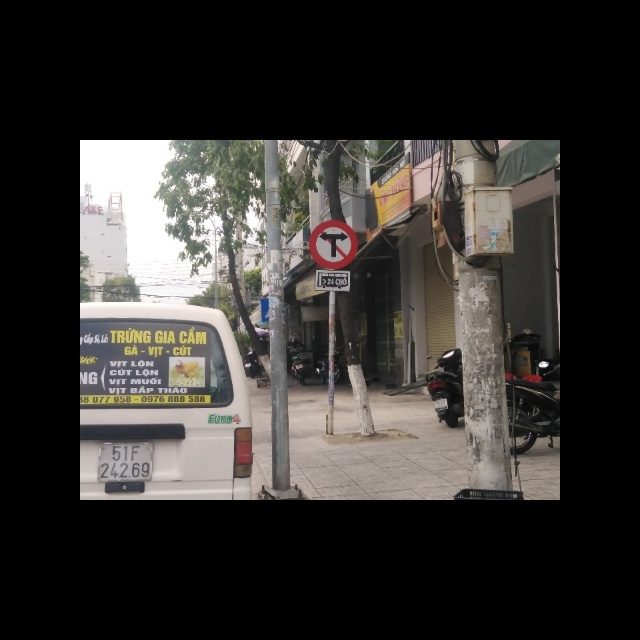Cấm rẽ trái và rẽ phải: (308, 219, 358, 270)
